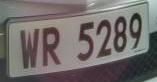2: (95, 16, 113, 60)
5: (75, 17, 97, 64)
8: (111, 13, 130, 55)
9: (126, 8, 145, 53)
R: (40, 22, 64, 72)
W: (17, 24, 41, 74)
